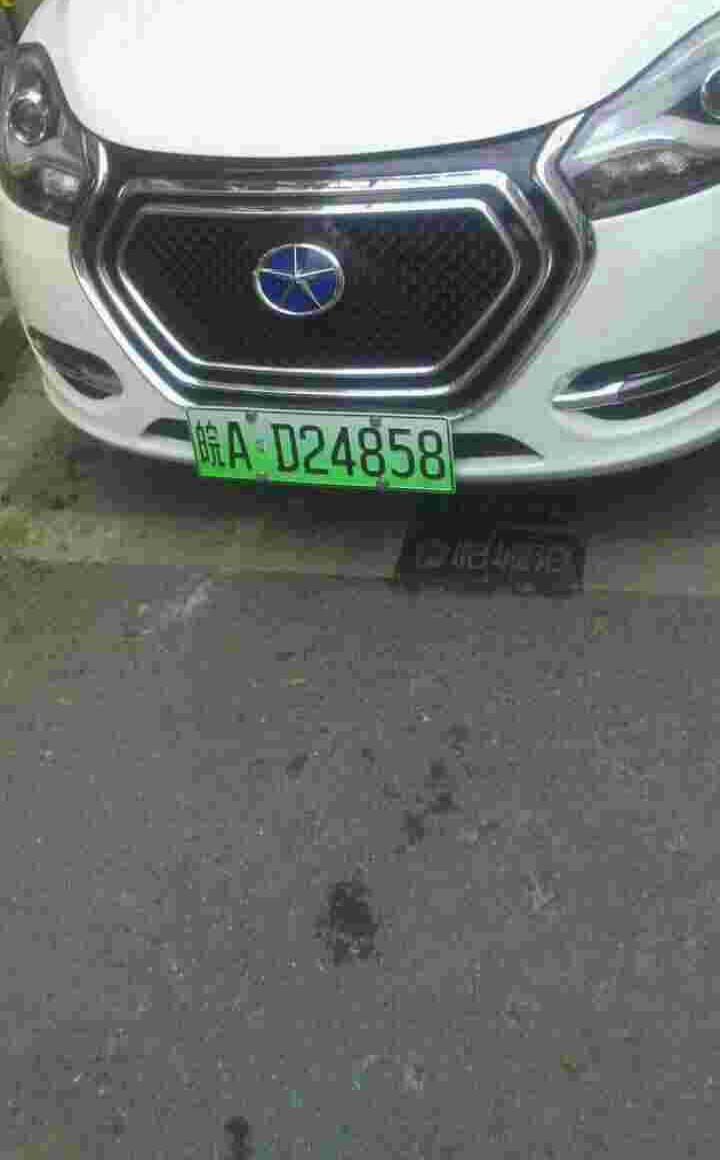car_id: (182, 407, 455, 492)
